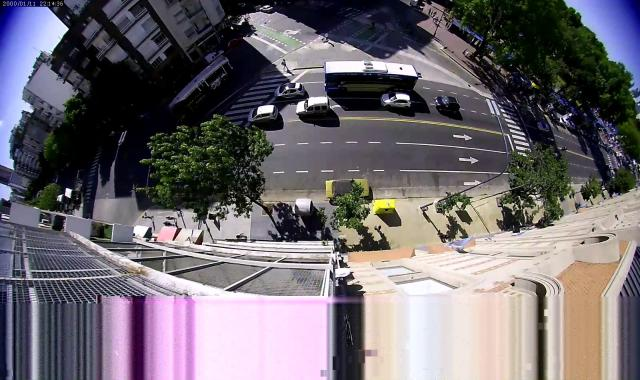bus: (170, 56, 236, 123), (323, 60, 419, 92), (65, 188, 80, 200), (57, 194, 70, 204)
car: (326, 179, 369, 198), (296, 96, 330, 116), (248, 105, 278, 125), (380, 92, 412, 109), (274, 83, 305, 98), (434, 96, 460, 113), (205, 50, 224, 63), (227, 36, 242, 49), (537, 122, 550, 132), (259, 5, 274, 13), (551, 114, 560, 123), (566, 121, 575, 130), (559, 118, 566, 125)
